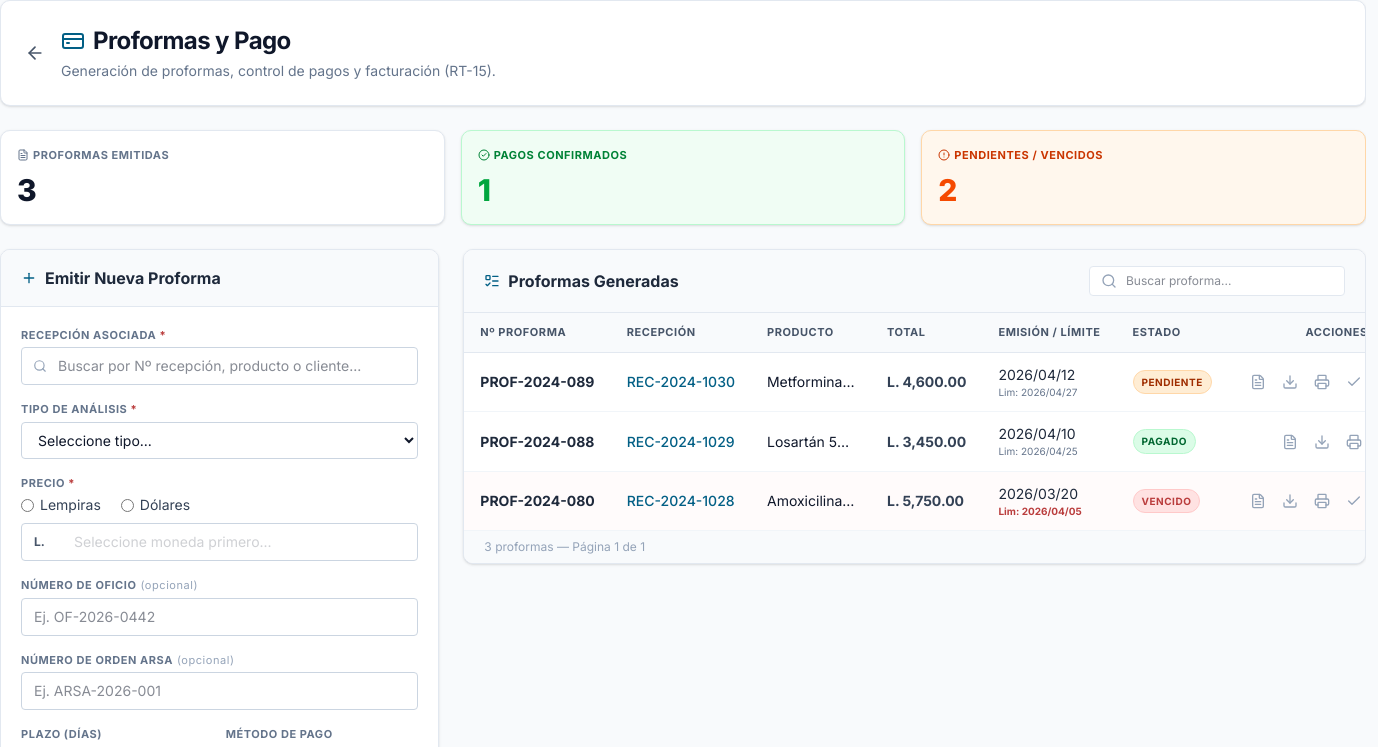
Scenario: ProformasPagoPage — /rac/proformas › Recepción — autocomplete, no select estático › filtra por número de recepción
Step 1. Type "REC-2024-1030" into the field with test id "recepcion-search" → coordinates (220, 366), box 21,347 -> 418,385
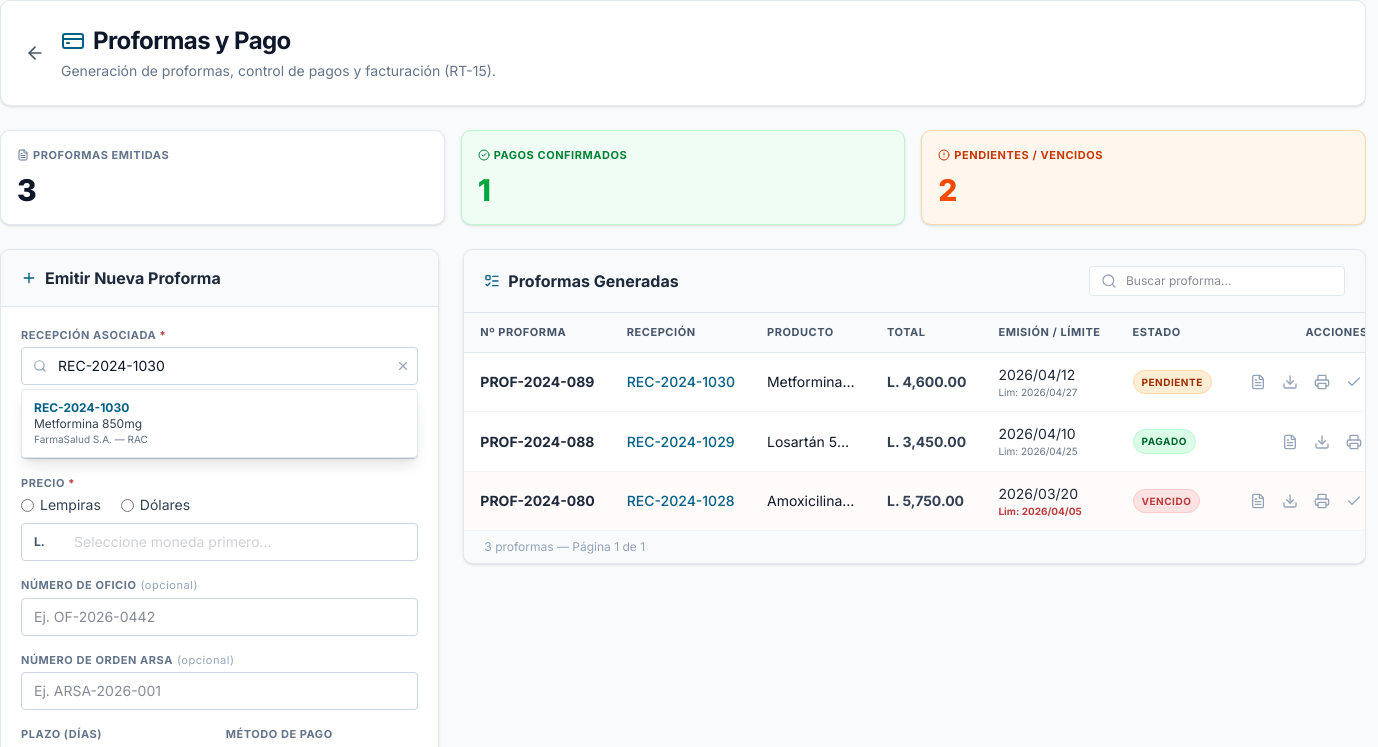
Now the list with test id "recepcion-dropdown" is shown, box 21,389 -> 418,458
